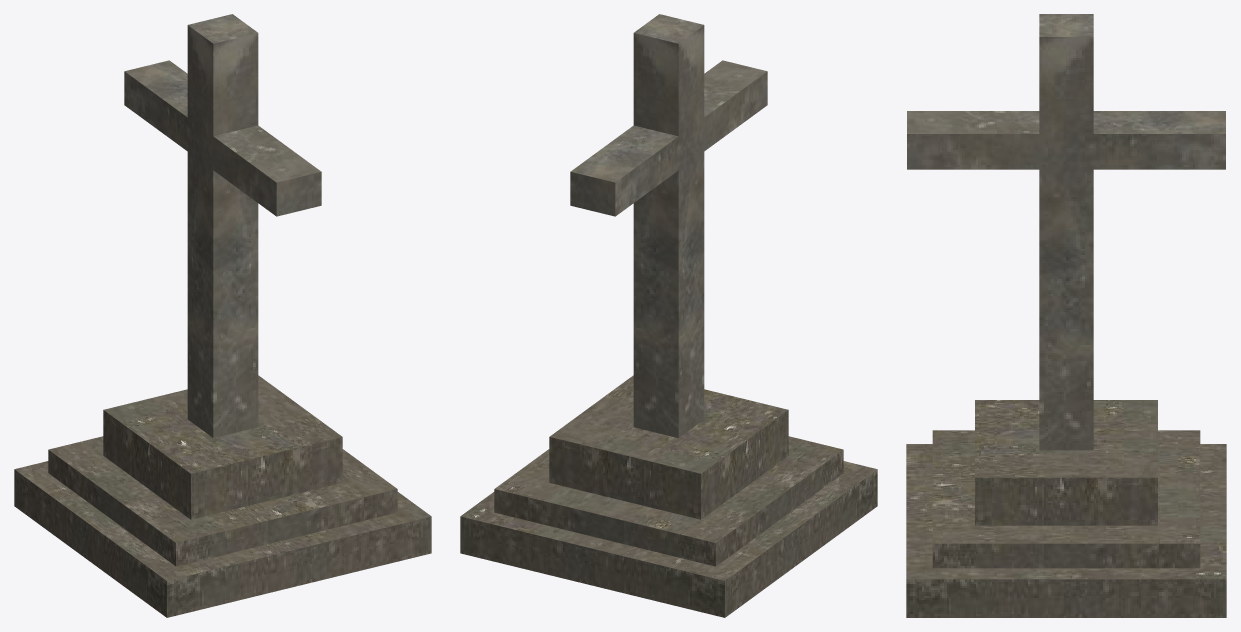
Rendered from Tumba2_.glb.
3 renders of one model, left to right at view 1: azimuth 30°, elevation 25°; view 2: azimuth 150°, elevation 25°; view 3: azimuth 270°, elevation 25°, orthographic. The views are drawn at different scales.
Visible parts, largest first — view 1: Lapida_2; view 2: Lapida_2; view 3: Lapida_2.
Boxes of the visible parts, x1,y1,x2,y2 form: Lapida_2: [14, 14, 431, 617]; Lapida_2: [460, 14, 877, 617]; Lapida_2: [906, 14, 1226, 617].
Size of the model in its own units: 1.5 by 2.72 by 1.5.
Materials: 2 (2 with a texture image).
